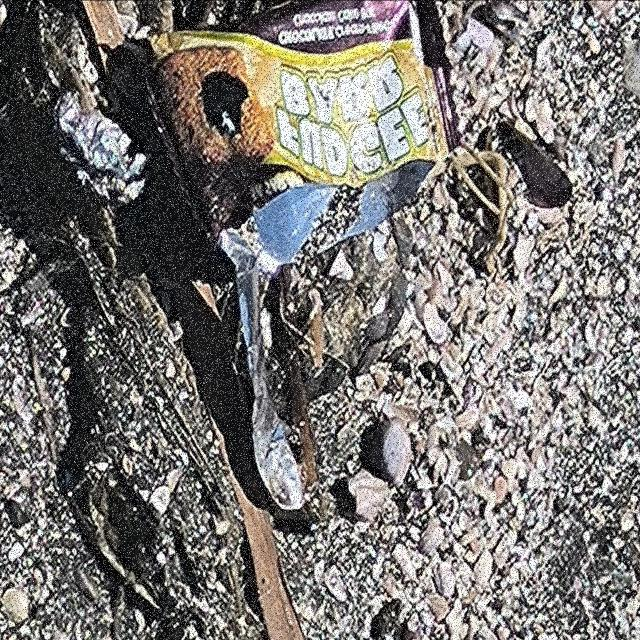plastic_waste: (143, 1, 467, 267)
